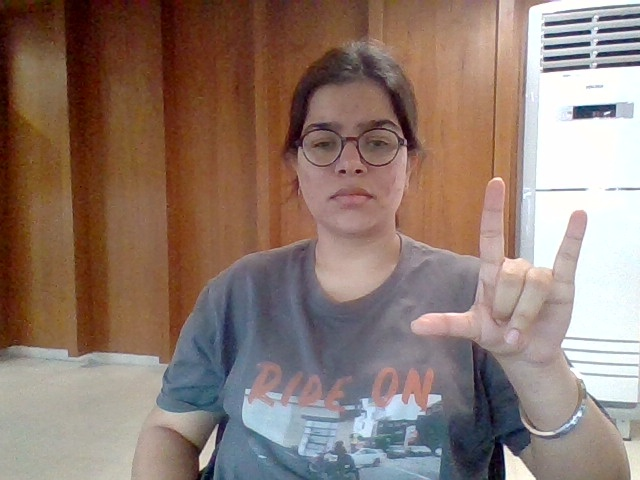I LOVE YOU: (409, 175, 592, 361)
